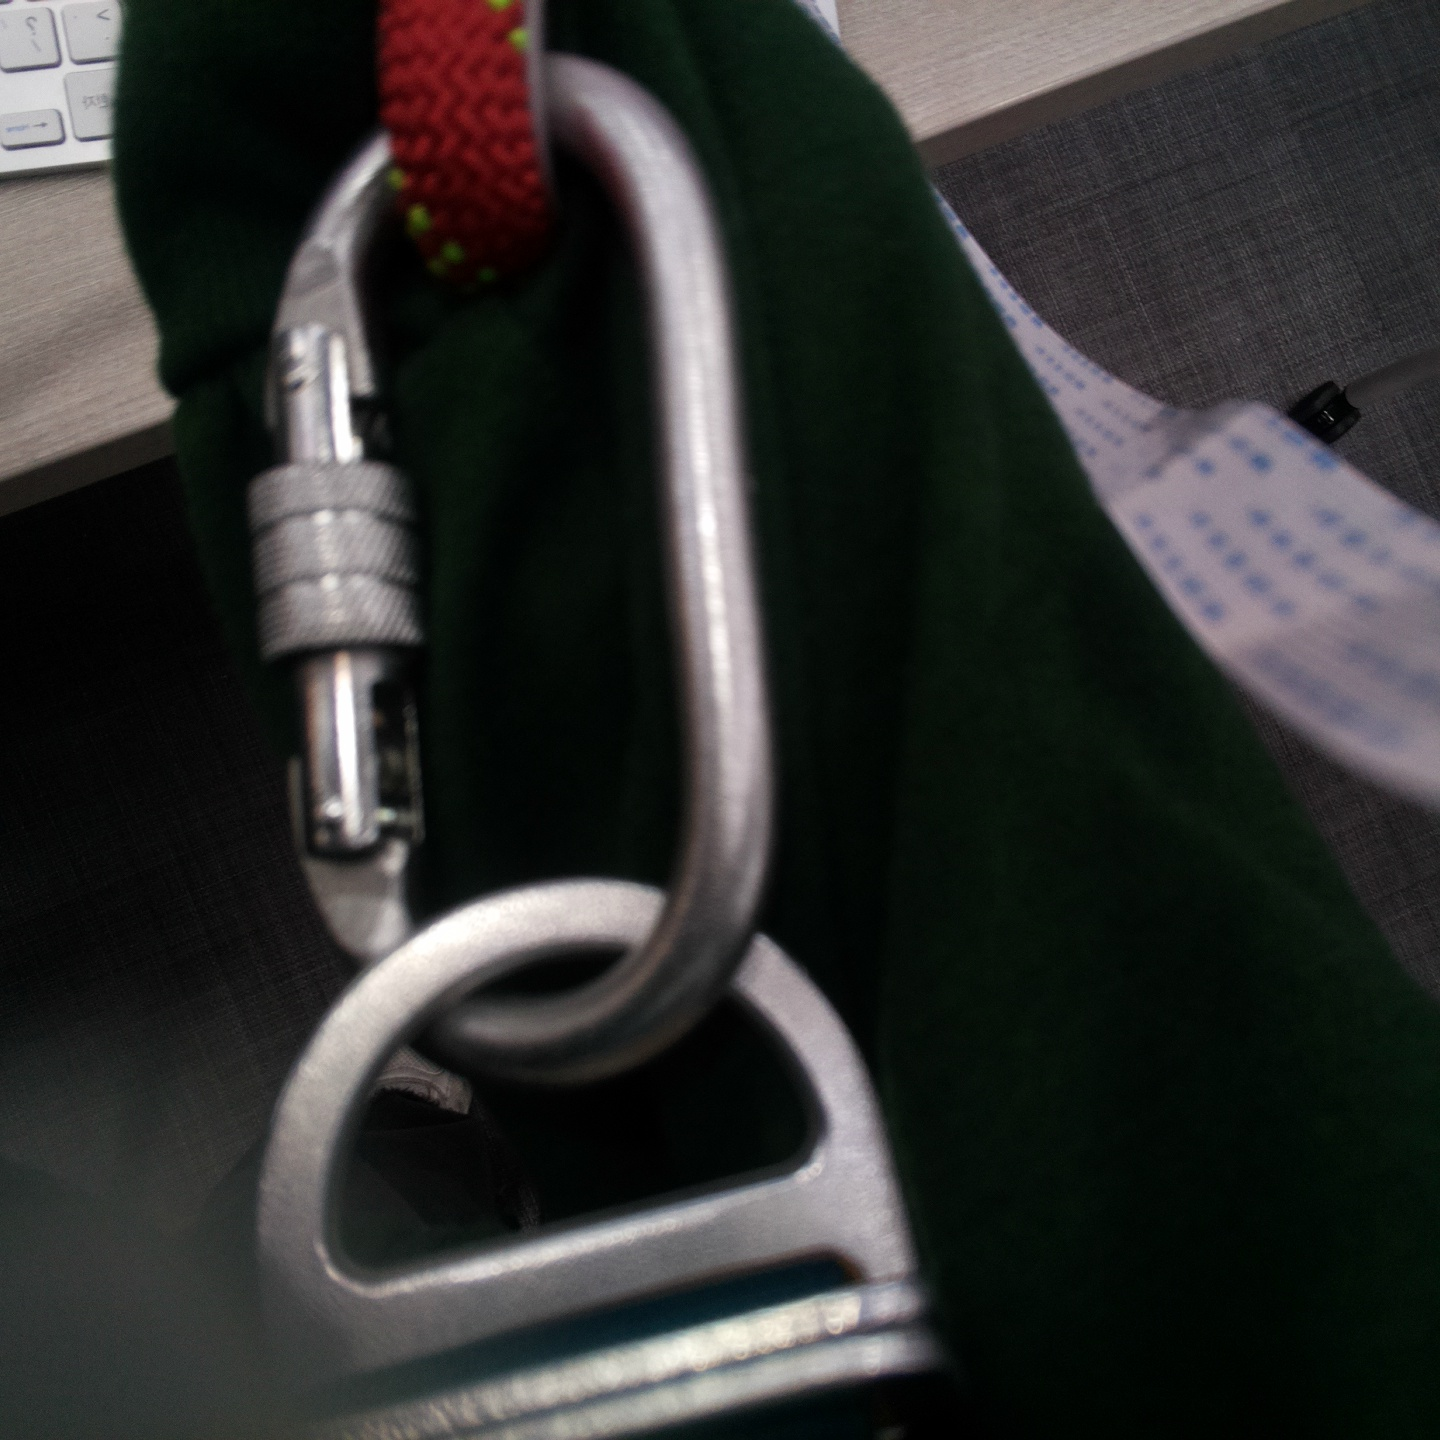SUCCESS: (218, 422, 806, 886)
